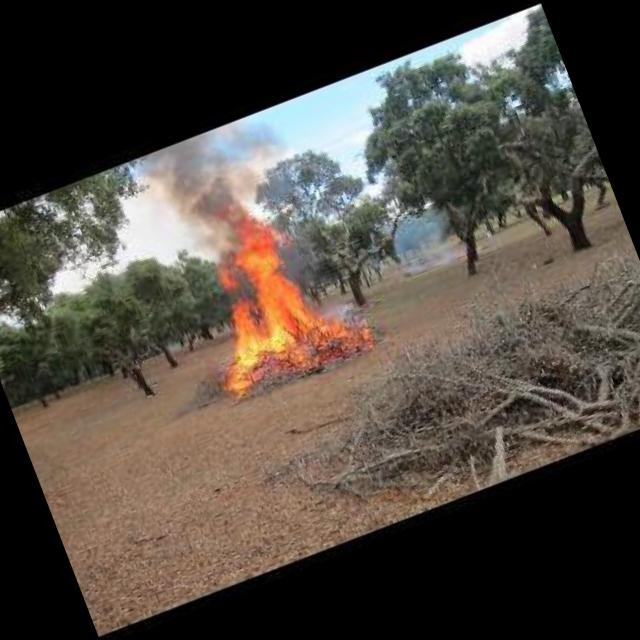fire: (176, 196, 374, 397)
smoke: (128, 110, 304, 276)
